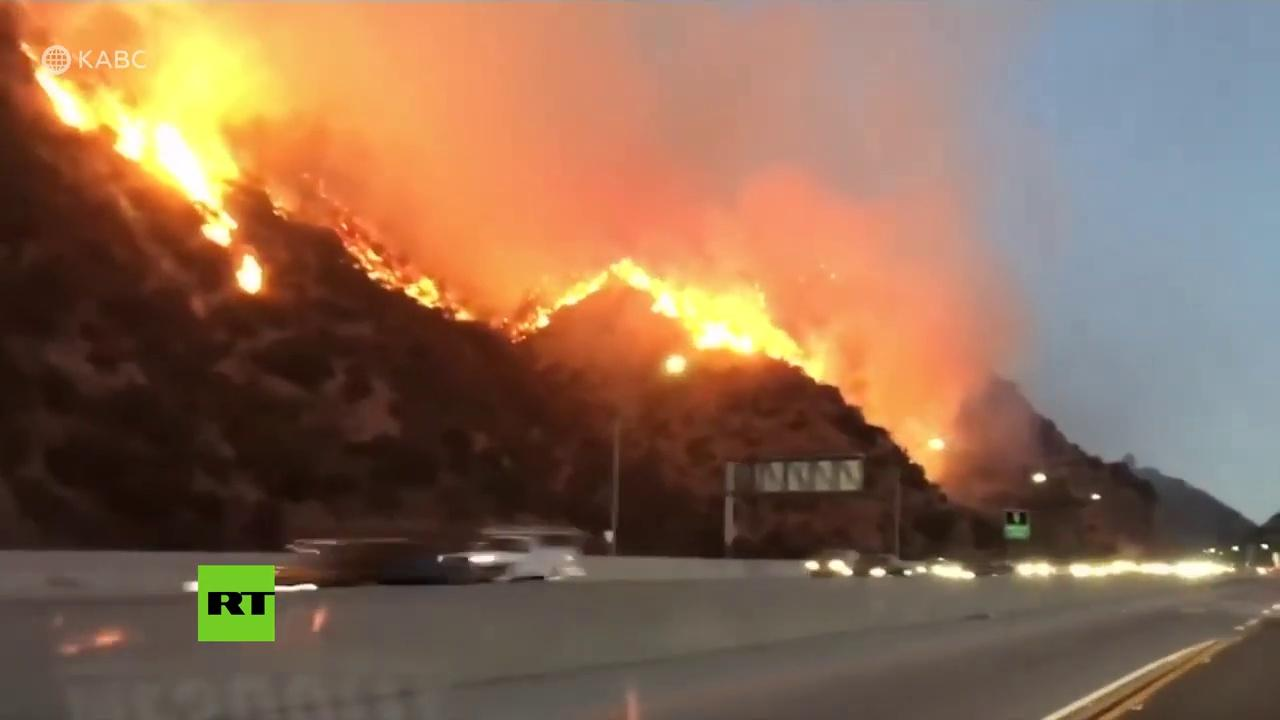Fire: (32, 12, 246, 247), (613, 250, 837, 386), (345, 238, 481, 325), (512, 271, 610, 339), (238, 255, 265, 294)
